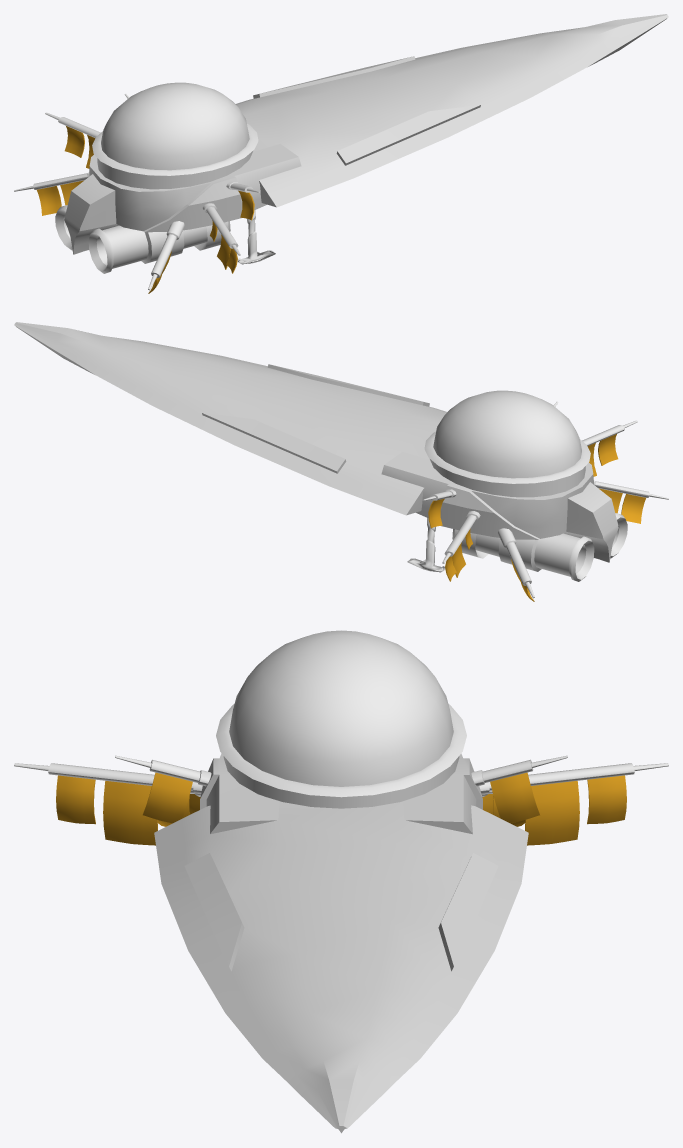
File: solarius -4.fbx
The picture shows the model from 3 angles, top to bottom: view 1: azimuth 30°, elevation 25°; view 2: azimuth 150°, elevation 25°; view 3: azimuth 270°, elevation 25°; orthographic projection. The views are drawn at different scales.
Parts seen in each view (by area): view 1: Solaris_V1, Landing gear; view 2: Solaris_V1, Landing gear; view 3: Solaris_V1.
Part boxes in pixels (bbox=[...]): Solaris_V1: bbox=[14, 14, 668, 293]; Landing gear: bbox=[237, 210, 275, 264]; Solaris_V1: bbox=[14, 322, 668, 601]; Landing gear: bbox=[407, 518, 445, 572]; Solaris_V1: bbox=[14, 630, 668, 1133].
Bounding box in the file's own units: 5963 × 1538 × 3364.
